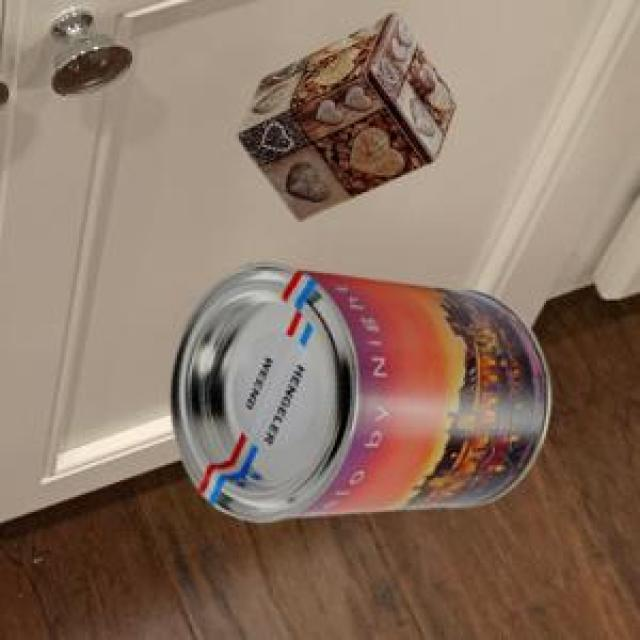Can: (167, 261, 547, 517), (234, 10, 451, 217)
